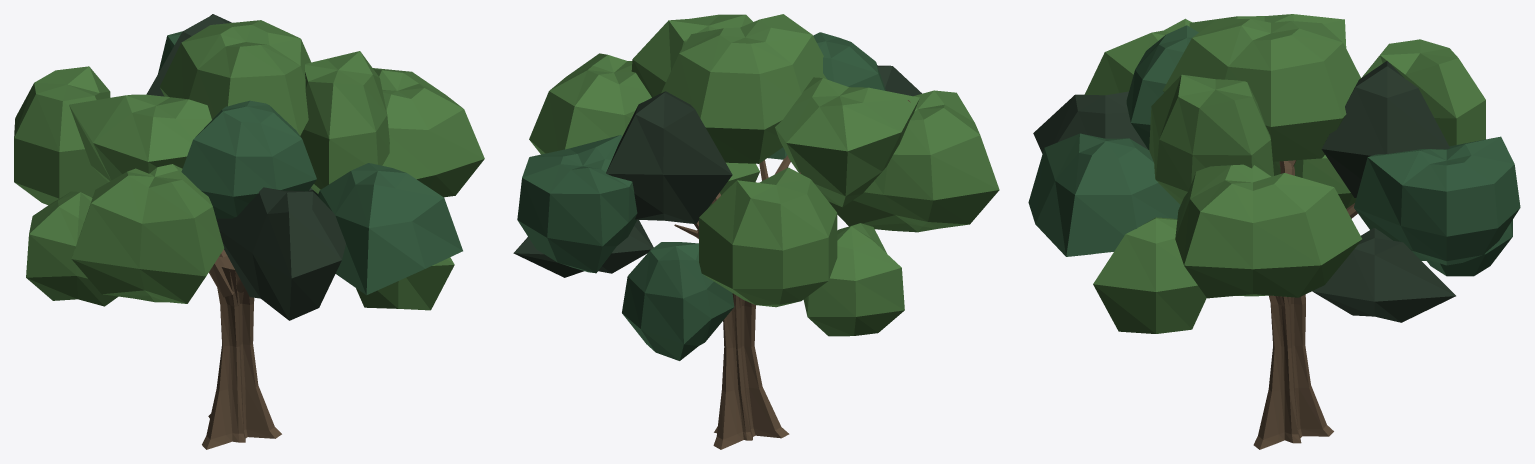
The model's file is cherry-tree.glb.
3 renders of one model, left to right at view 1: azimuth 30°, elevation 25°; view 2: azimuth 150°, elevation 25°; view 3: azimuth 270°, elevation 25°, orthographic. The views are drawn at different scales.
Parts seen in each view (by area): view 1: crown, bole; view 2: crown, bole; view 3: crown, bole.
Boxes of the visible parts, bbox=[...] form: crown: bbox=[14, 14, 484, 320]; bole: bbox=[202, 255, 281, 449]; crown: bbox=[513, 14, 999, 360]; bole: bbox=[713, 293, 789, 449]; crown: bbox=[1028, 14, 1520, 333]; bole: bbox=[1253, 294, 1333, 449].
Size of the model in its own units: 5.99 by 5.5 by 5.99.
